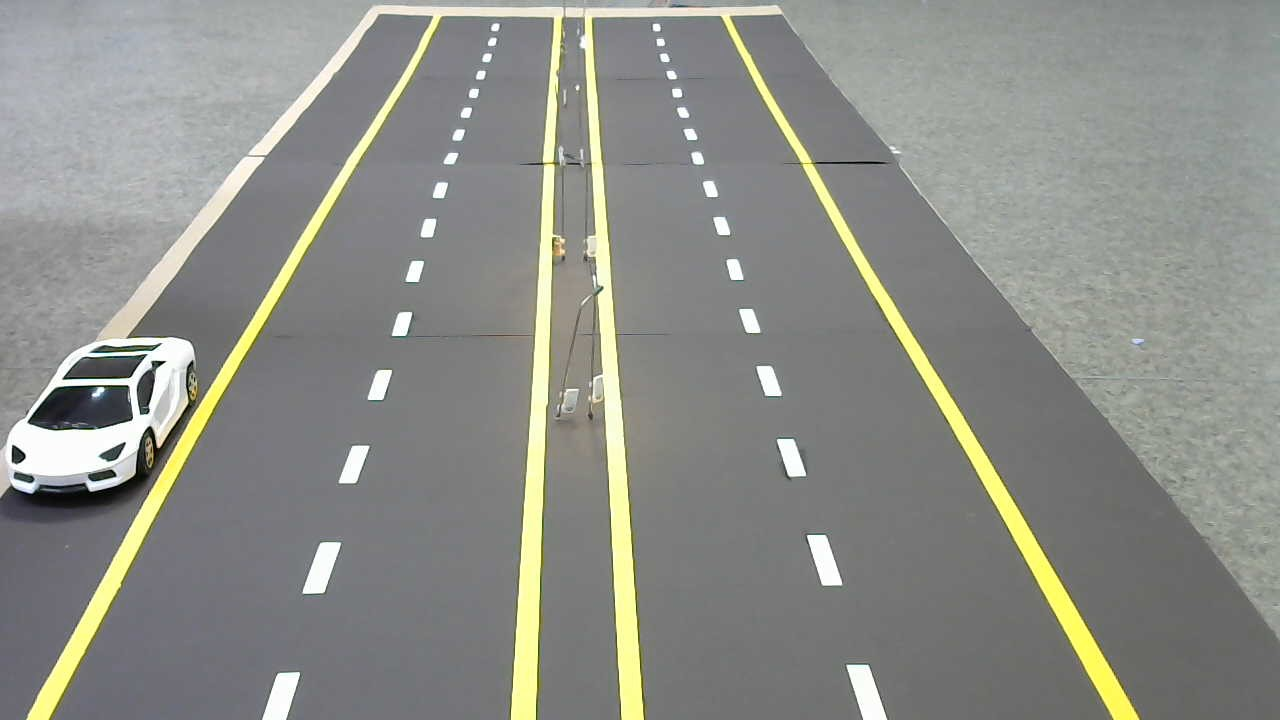front_car: (6, 331, 206, 507)
